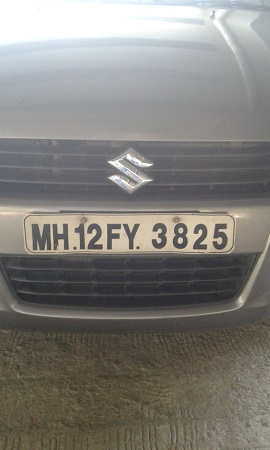licenseplate: (19, 210, 238, 261)
